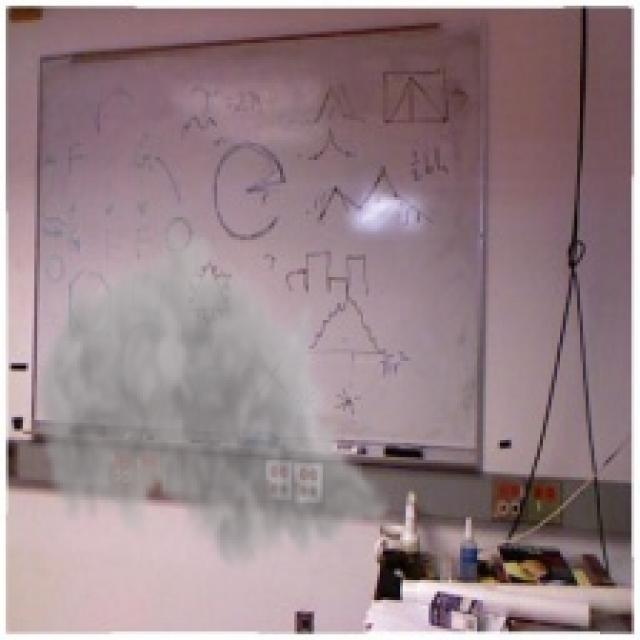Smoke: (32, 220, 394, 583)
